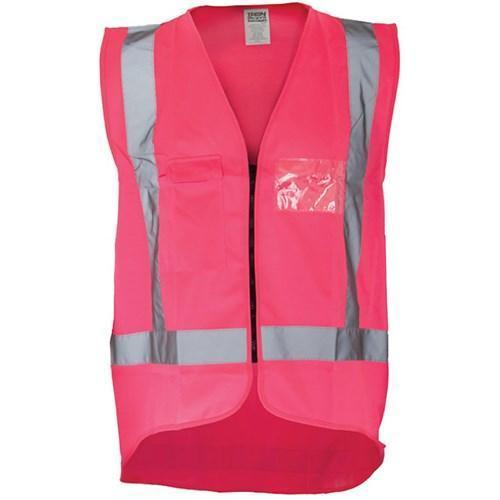vest: (99, 1, 401, 496)
